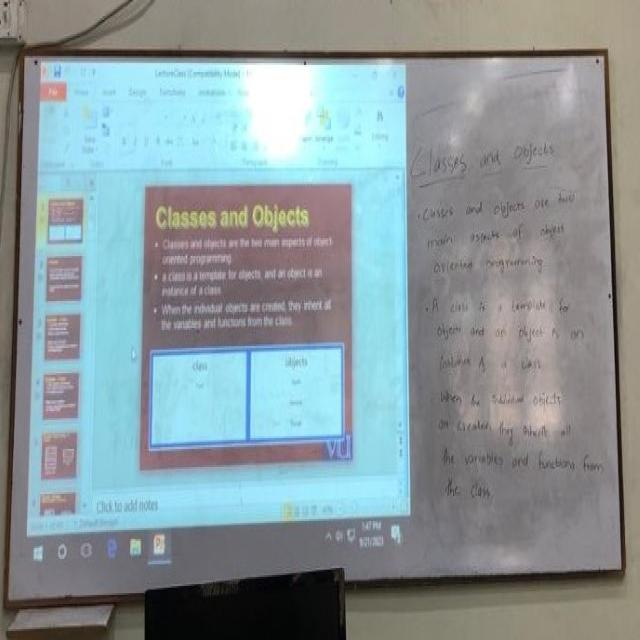Slide: (28, 57, 413, 566)
White-board: (7, 50, 624, 607)
